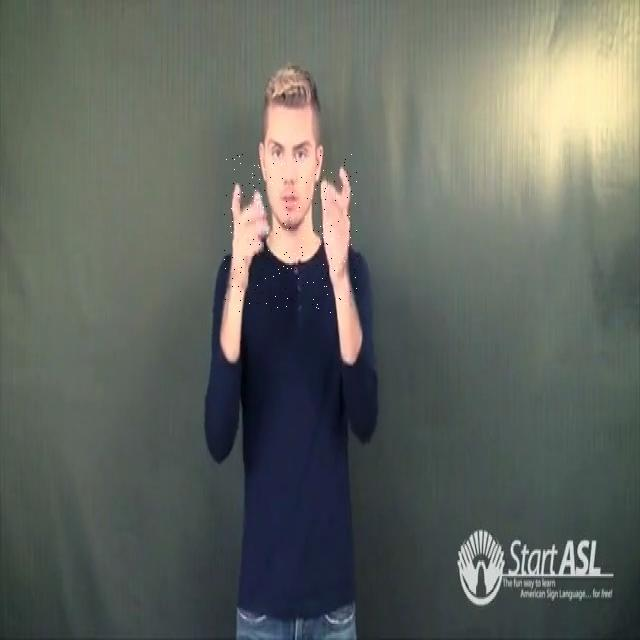manager: (224, 154, 358, 313)
